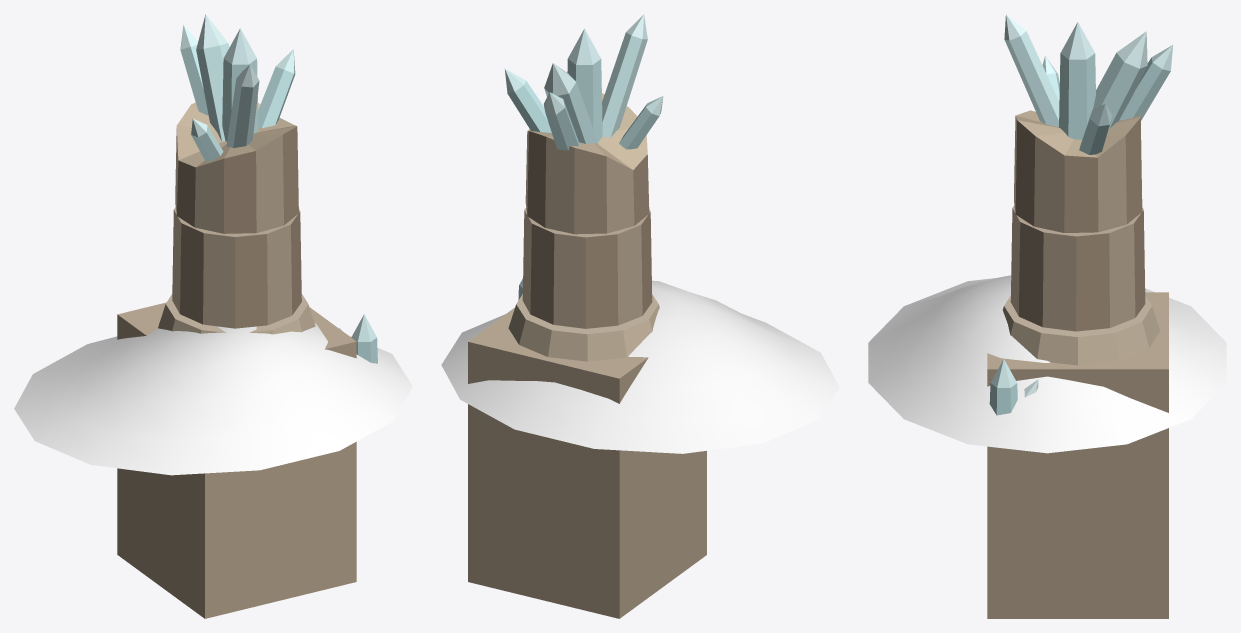
File: ruinas_columna_d.glb
The picture shows the model from 3 angles, left to right: view 1: azimuth 30°, elevation 25°; view 2: azimuth 150°, elevation 25°; view 3: azimuth 270°, elevation 25°; orthographic projection. The views are drawn at different scales.
Visible parts, largest first — view 1: ruinas_columna_d, ruinas_columna_d_arena; view 2: ruinas_columna_d, ruinas_columna_d_arena; view 3: ruinas_columna_d, ruinas_columna_d_arena.
Part boxes in pixels (x1=…): ruinas_columna_d: x1=117, y1=14, x2=377, y2=618; ruinas_columna_d_arena: x1=14, y1=323, x2=412, y2=475; ruinas_columna_d: x1=468, y1=14, x2=706, y2=618; ruinas_columna_d_arena: x1=441, y1=280, x2=839, y2=453; ruinas_columna_d: x1=987, y1=14, x2=1172, y2=618; ruinas_columna_d_arena: x1=868, y1=275, x2=1226, y2=453.
Size of the model in its own units: 2.8 by 4.04 by 2.34.
